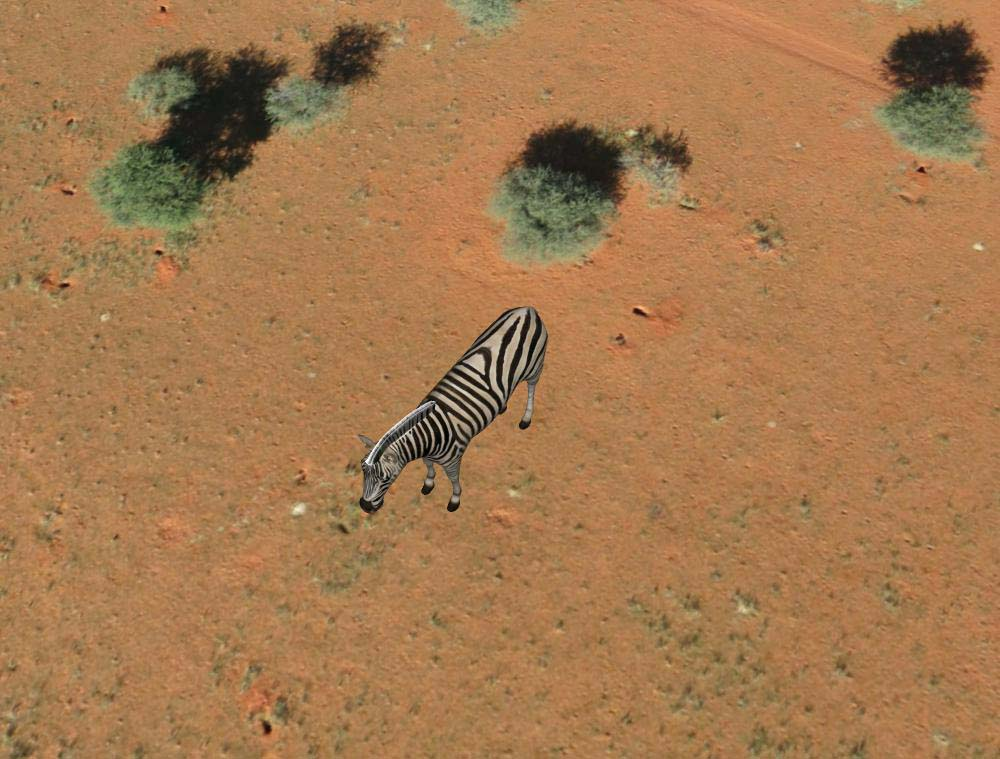zebra: (358, 302, 552, 521)
